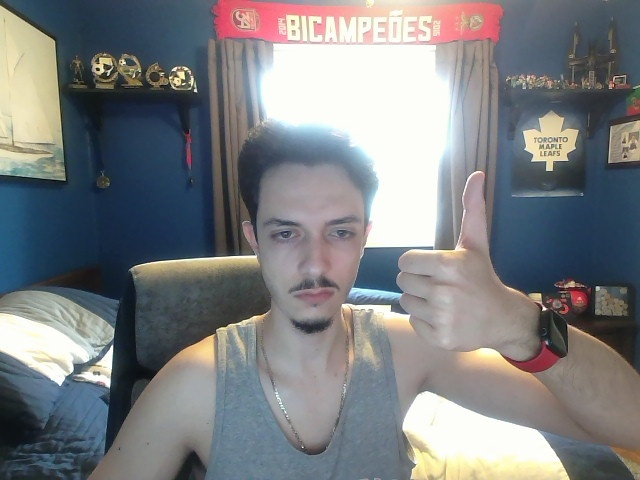ThumbsUp: (397, 170, 506, 352)
